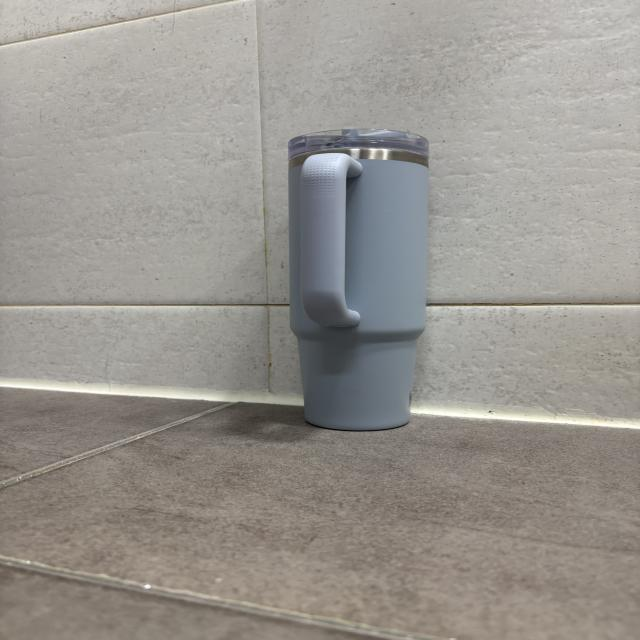waterbottle: (287, 126, 427, 434)
